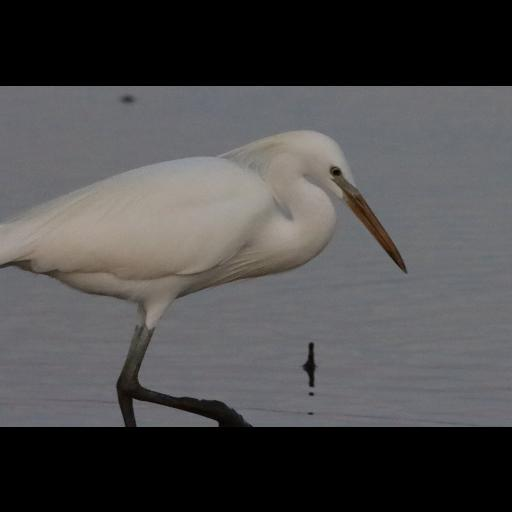chinese_egret: (0, 128, 408, 426)
